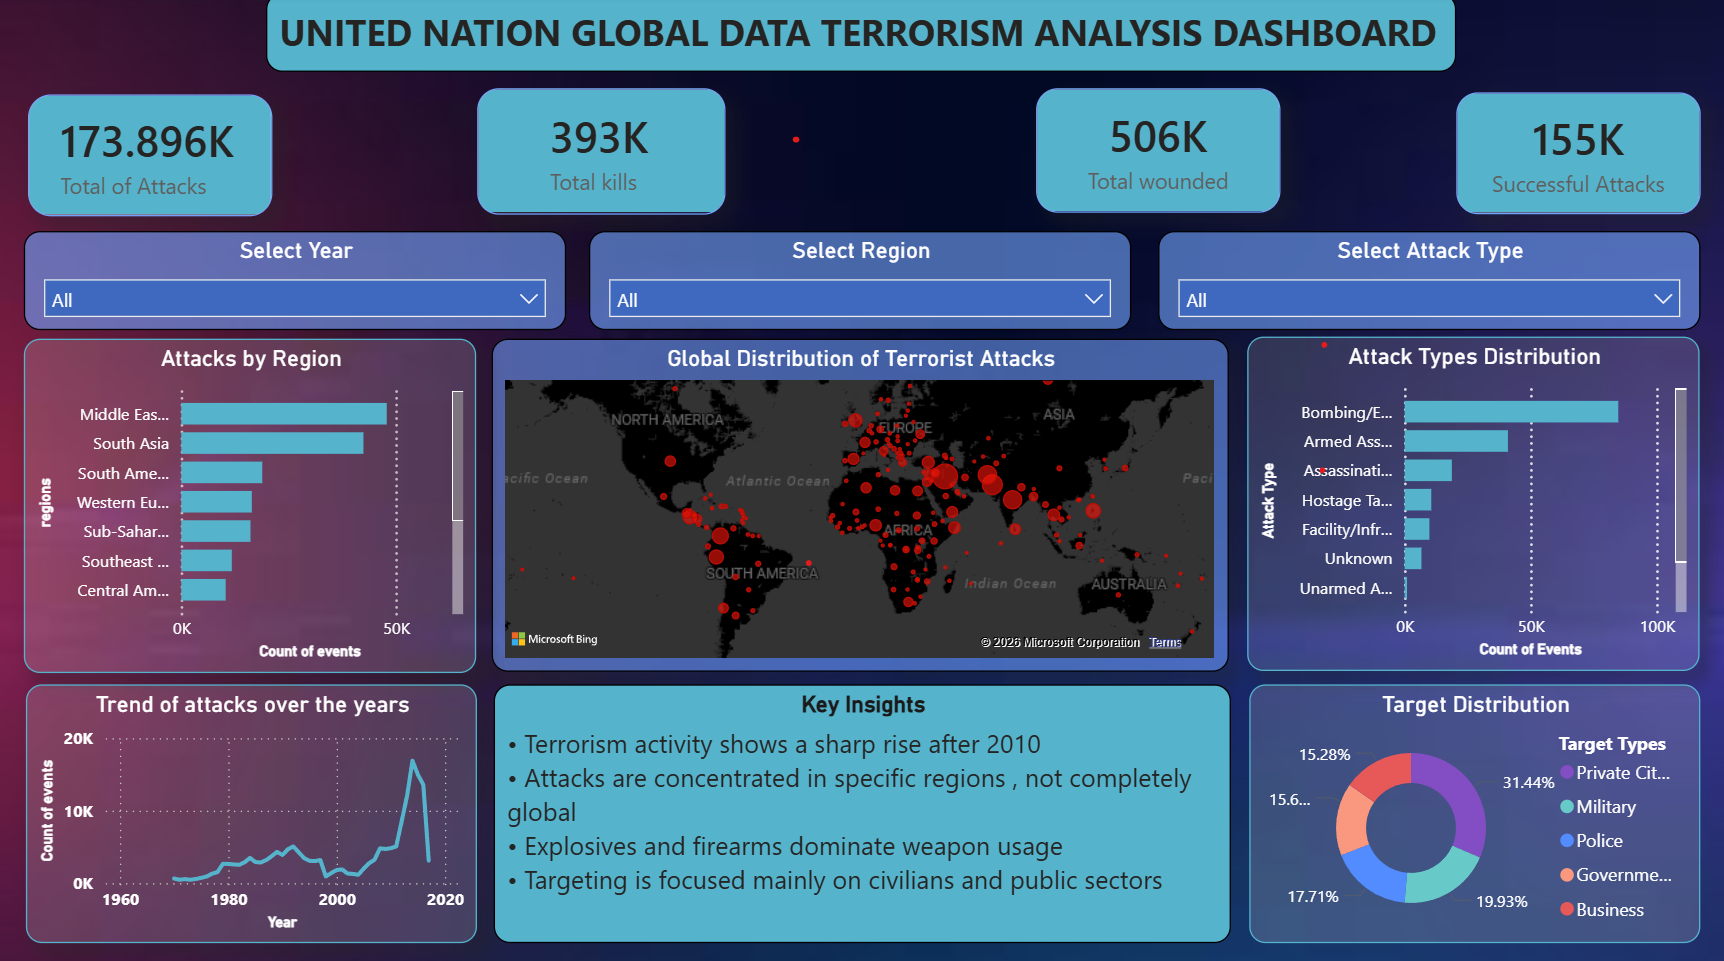

Layout of this report page (visuals, bound fields, positions):
{"tool":"powerbi","page":{"name":"Page 1","canvas":[1280,720],"ordinal":0},"visuals":[{"type":"textbox","box":[197.9,0,882.2,58.3],"z":0},{"type":"cardVisual","fields":{"Data":["CountNonNull(Filtered_terrorism_data.eventid)"]},"box":[21.5,75.2,181,90.5],"z":1000},{"type":"cardVisual","fields":{"Data":["Sum(Filtered_terrorism_data.nkill)"]},"box":[354.4,70.6,184.1,93.6],"z":2000},{"type":"cardVisual","fields":{"Data":["Sum(Filtered_terrorism_data.nwound)"]},"box":[768.6,70.6,181,92.1],"z":3000},{"type":"cardVisual","fields":{"Data":["Sum(Filtered_terrorism_data.success)"]},"box":[1080.1,73.6,181,90.5],"z":4000},{"type":"map","title":"Global Distribution of Terrorist Attacks","fields":{"Category":["Filtered_terrorism_data.country_txt"],"Size":["CountNonNull(Filtered_terrorism_data.eventid)"]},"box":[365.1,256.2,546.2,247],"z":5000},{"type":"slicer","title":"Select Year","fields":{"Values":["Filtered_terrorism_data.iyear"]},"box":[18.5,177,402,73.6],"z":6000},{"type":"clusteredBarChart","title":"Attacks by Region","fields":{"Category":["Filtered_terrorism_data.region_txt"],"Y":["CountNonNull(Filtered_terrorism_data.eventid)"]},"box":[17.8,256.7,335.4,247.6],"z":7000},{"type":"lineChart","title":"Trend of attacks over the years","fields":{"Category":["Filtered_terrorism_data.iyear"],"Y":["CountNonNull(Filtered_terrorism_data.eventid)"]},"box":[20,513,334.5,191.8],"z":8000},{"type":"clusteredBarChart","title":"Attack Types Distribution","fields":{"Category":["Filtered_terrorism_data.attacktype1_txt"],"Y":["CountNonNull(Filtered_terrorism_data.eventid)"]},"box":[925.1,255.1,335.4,247.6],"z":9000},{"type":"donutChart","title":"Target Distribution","fields":{"Category":["Filtered_terrorism_data.targtype1_txt"],"Y":["CountNonNull(Filtered_terrorism_data.eventid)"]},"box":[926.8,513,334.5,191.8],"z":10000},{"type":"slicer","title":"Select Region","fields":{"Values":["Filtered_terrorism_data.region_txt"]},"box":[437.4,177,402,73.6],"z":11000},{"type":"slicer","title":"Select Attack Type","fields":{"Values":["Filtered_terrorism_data.attacktype1_txt"]},"box":[859.3,177,402,73.6],"z":12000},{"type":"textbox","title":"Key Insights","box":[366.7,512.4,546.2,191.8],"z":13000}]}

Visuals, with their boxes in screenshot pixels (x1, y1, x2, y2), scaled from the page's 1280x720 canvas onto the 1724x961 screenshot:
textbox: select_region(267, 0, 1455, 78)
cardVisual - CountNonNull(Filtered_terrorism_data.eventid): select_region(29, 100, 273, 221)
cardVisual - Sum(Filtered_terrorism_data.nkill): select_region(477, 94, 725, 219)
cardVisual - Sum(Filtered_terrorism_data.nwound): select_region(1035, 94, 1279, 217)
cardVisual - Sum(Filtered_terrorism_data.success): select_region(1455, 98, 1699, 219)
"Global Distribution of Terrorist Attacks" map: select_region(492, 342, 1227, 672)
"Select Year" slicer: select_region(25, 236, 566, 334)
"Attacks by Region" clusteredBarChart: select_region(24, 343, 476, 673)
"Trend of attacks over the years" lineChart: select_region(27, 685, 477, 941)
"Attack Types Distribution" clusteredBarChart: select_region(1246, 340, 1698, 671)
"Target Distribution" donutChart: select_region(1248, 685, 1699, 941)
"Select Region" slicer: select_region(589, 236, 1131, 334)
"Select Attack Type" slicer: select_region(1157, 236, 1699, 334)
"Key Insights" textbox: select_region(494, 684, 1230, 940)
